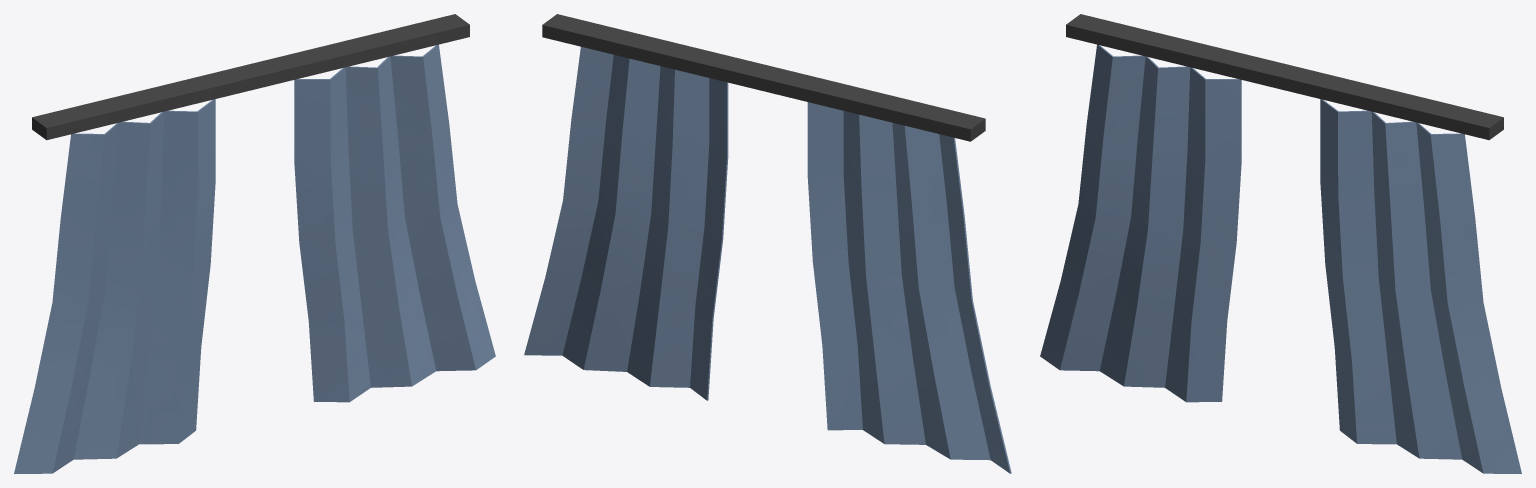
File: Curtain_02_03.fbx
3 renders of one model, left to right at view 1: azimuth 30°, elevation 25°; view 2: azimuth 150°, elevation 25°; view 3: azimuth 330°, elevation 25°, orthographic.
Parts seen in each view (by area): view 1: Curtain_02_03; view 2: Curtain_02_03; view 3: Curtain_02_03.
Boxes of the visible parts, x1,y1,x2,y2 form: Curtain_02_03: [14, 14, 495, 473]; Curtain_02_03: [524, 14, 1011, 473]; Curtain_02_03: [1040, 14, 1521, 473].
Size of the model in its own units: 1.87 by 1.27 by 0.1387.
